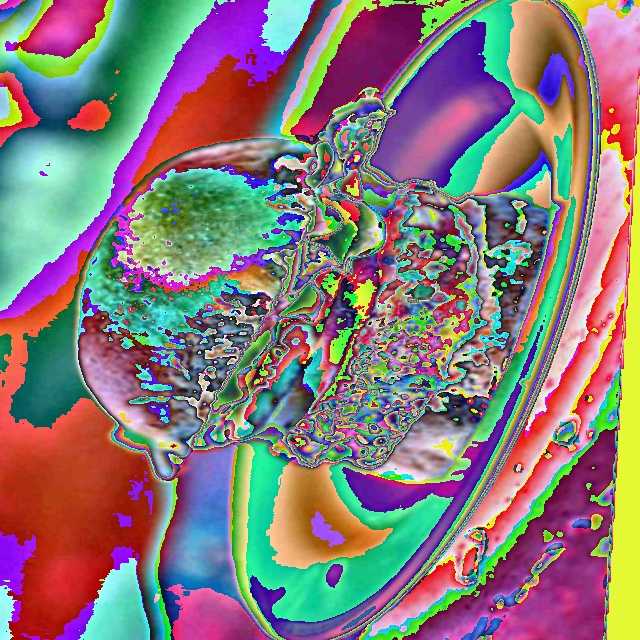background: (70, 89, 553, 486)
